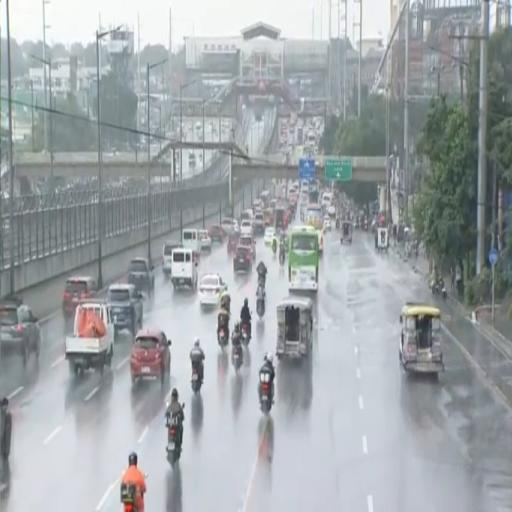bus: (288, 226, 319, 292), (303, 204, 323, 253)
car: (0, 297, 40, 365), (131, 328, 171, 385), (107, 283, 143, 335), (63, 276, 97, 322), (199, 274, 227, 307), (128, 258, 154, 293), (163, 240, 182, 279), (234, 246, 252, 273), (239, 235, 255, 260), (209, 225, 226, 243), (198, 230, 211, 251), (254, 211, 264, 234), (221, 218, 233, 235), (264, 228, 275, 246), (240, 220, 253, 235), (327, 204, 335, 216), (232, 220, 239, 233), (324, 219, 331, 232)
motorcycle: (167, 414, 182, 468), (0, 398, 11, 460), (120, 483, 139, 511), (259, 373, 272, 413), (191, 363, 202, 393), (232, 344, 243, 372), (218, 327, 229, 349), (242, 324, 250, 346), (256, 298, 265, 317), (431, 281, 440, 297), (258, 275, 265, 290), (279, 245, 284, 265), (272, 239, 277, 254), (442, 283, 446, 301), (335, 218, 340, 229)
truck: (65, 299, 114, 375)
